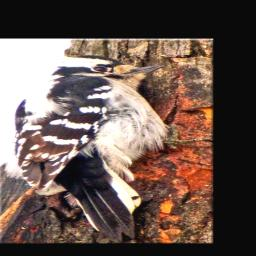Woodpecker: (3, 52, 211, 243)
